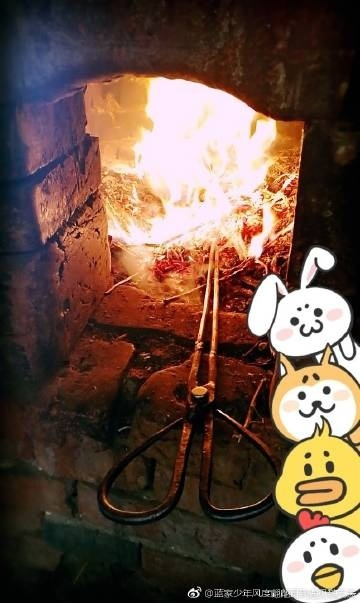fire: (108, 73, 290, 256)
